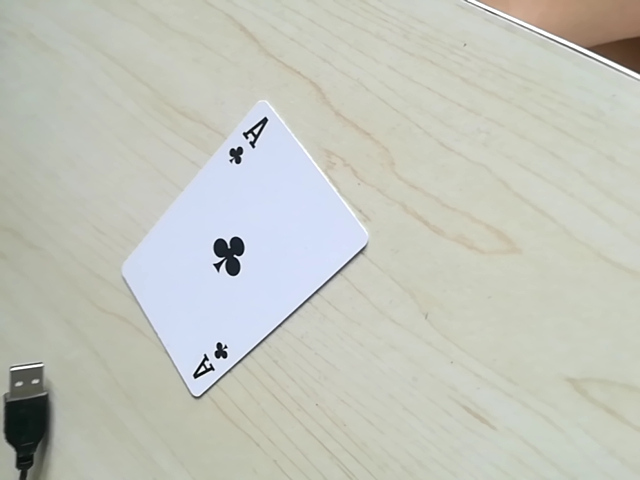mh a: (185, 332, 238, 395), (217, 116, 266, 178)
